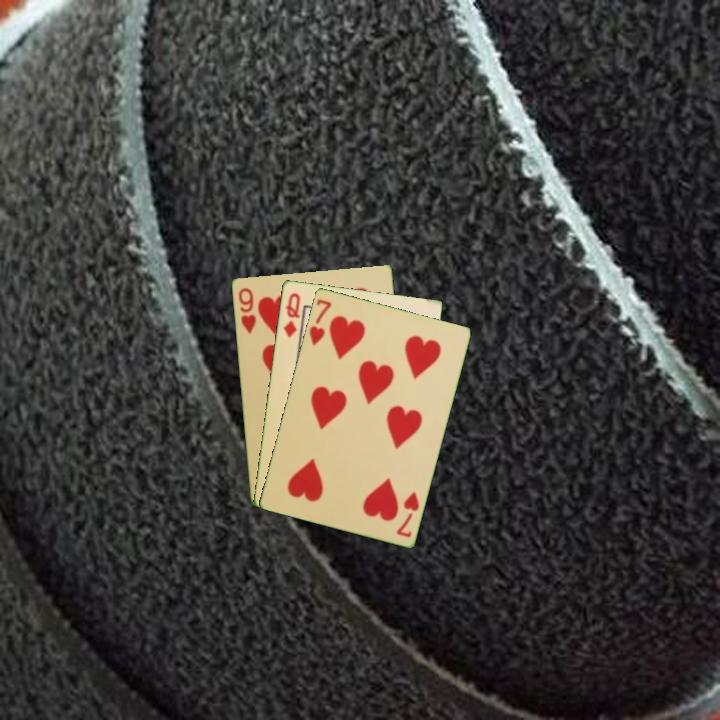7h: (305, 295, 334, 349), (393, 487, 422, 540)
9h: (235, 284, 259, 337)
Qd: (280, 289, 303, 340)
